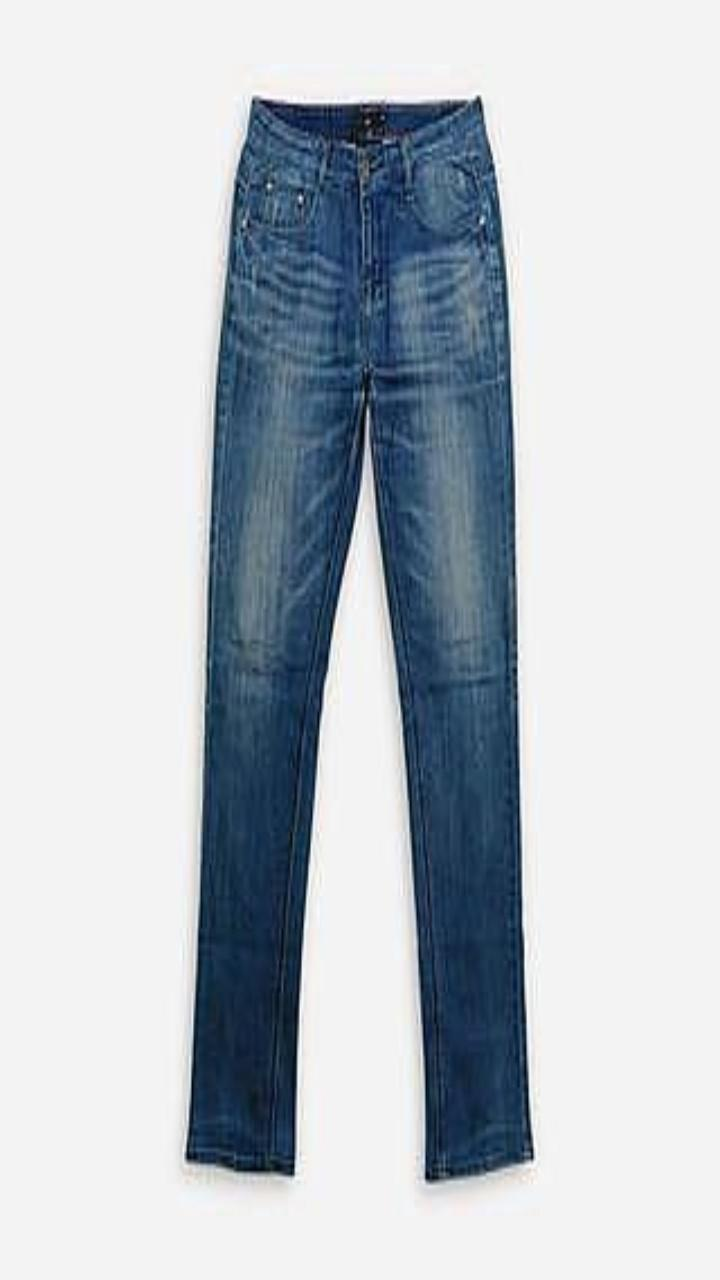Jeans: (187, 99, 531, 1179)
